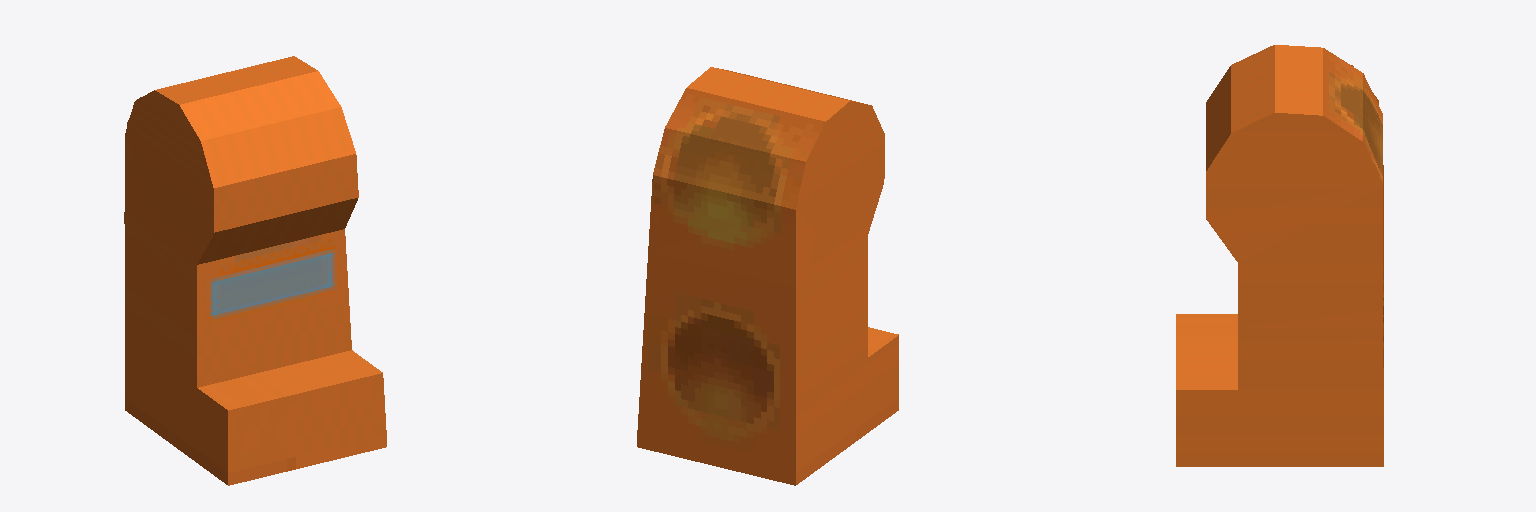
3 views of the same model, side by side, from view 1: azimuth 30°, elevation 25°; view 2: azimuth 150°, elevation 25°; view 3: azimuth 270°, elevation 25° (orthographic).
Parts seen in each view (by area): view 1: Mesh_0215.rip; view 2: Mesh_0215.rip; view 3: Mesh_0215.rip.
Part boxes in pixels (x1,y1,x2,y2): Mesh_0215.rip: (124,56,386,485); Mesh_0215.rip: (637,67,898,485); Mesh_0215.rip: (1176,45,1383,466).
Size of the model in its own units: 0.1523 by 0.3155 by 0.172.
Materials: 1 (1 with a texture image).